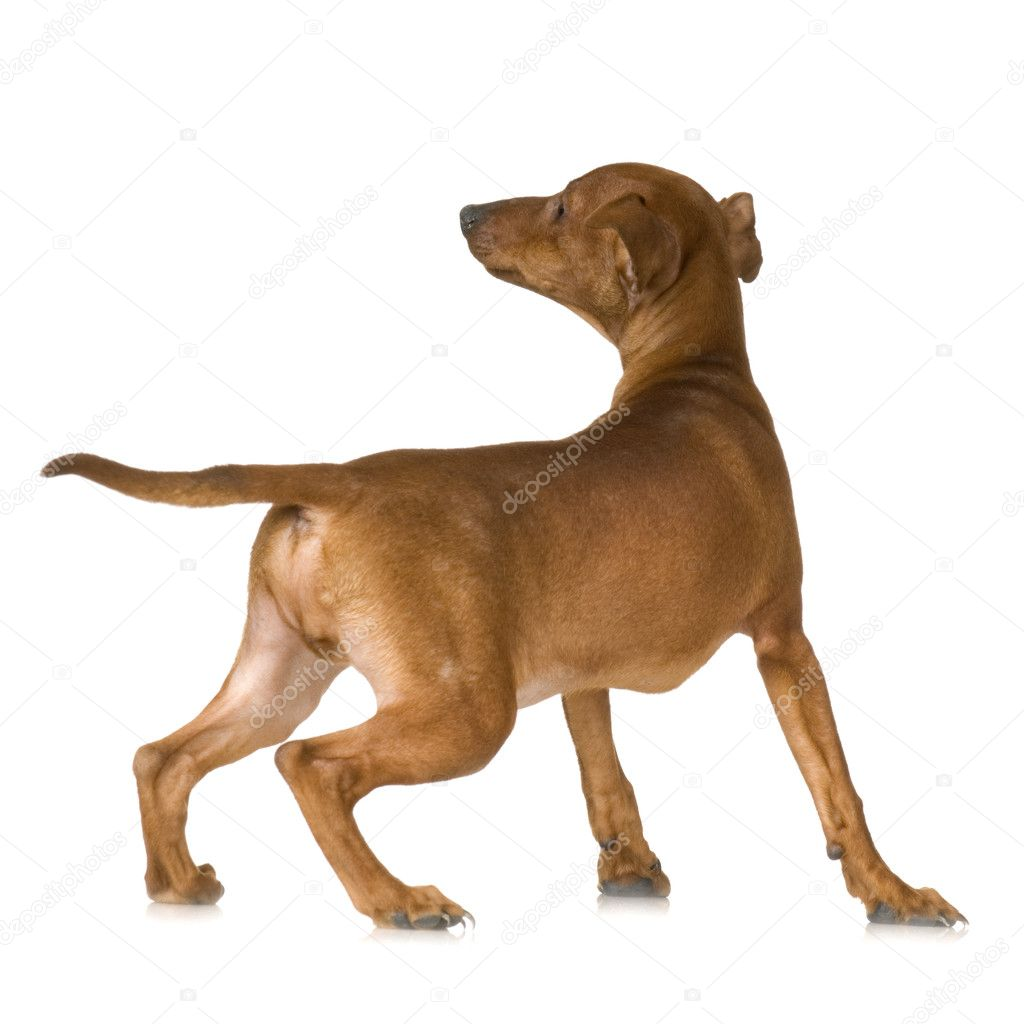dog: (43, 165, 979, 929)
